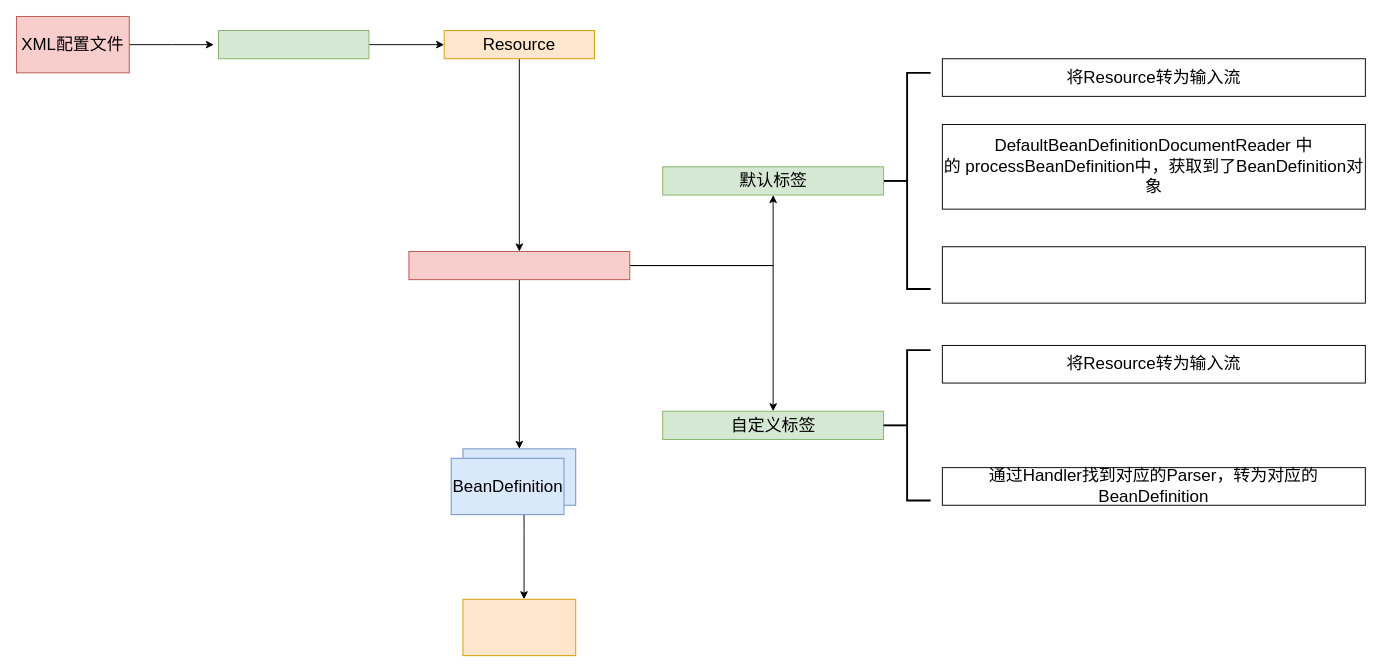
Some shapes in this 1382 by 672 pixel diagram are drawn without their labels. The shapes that lost their labels are listed below. From the top down, each one's box as (x1, y1, x2, y2) in pixels, then its label:
(218, 30, 369, 59): ClassPathResource
(408, 251, 630, 280): XMLBeanDefinitionReader
(941, 246, 1365, 303): 在DefaultListableBeanFactory中，以 id为键，BeanDefinition为value，放入Map集合之中
(462, 598, 576, 656): 创建阶段
